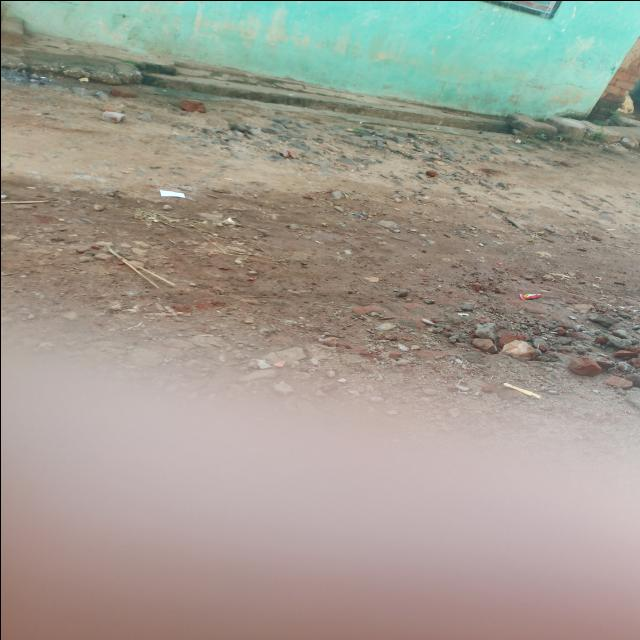potholes: (363, 268, 633, 398)
